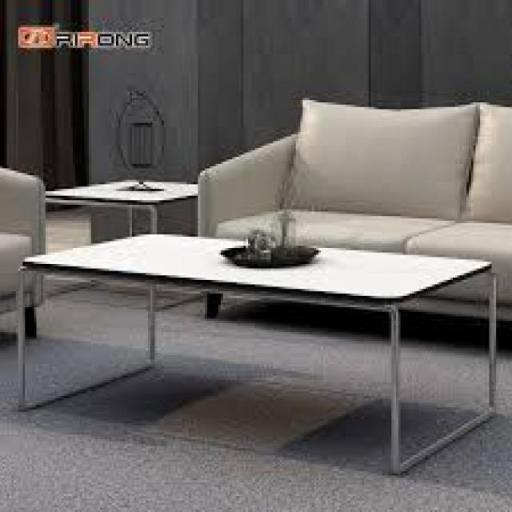sofa: (194, 54, 512, 354), (2, 143, 72, 377)
